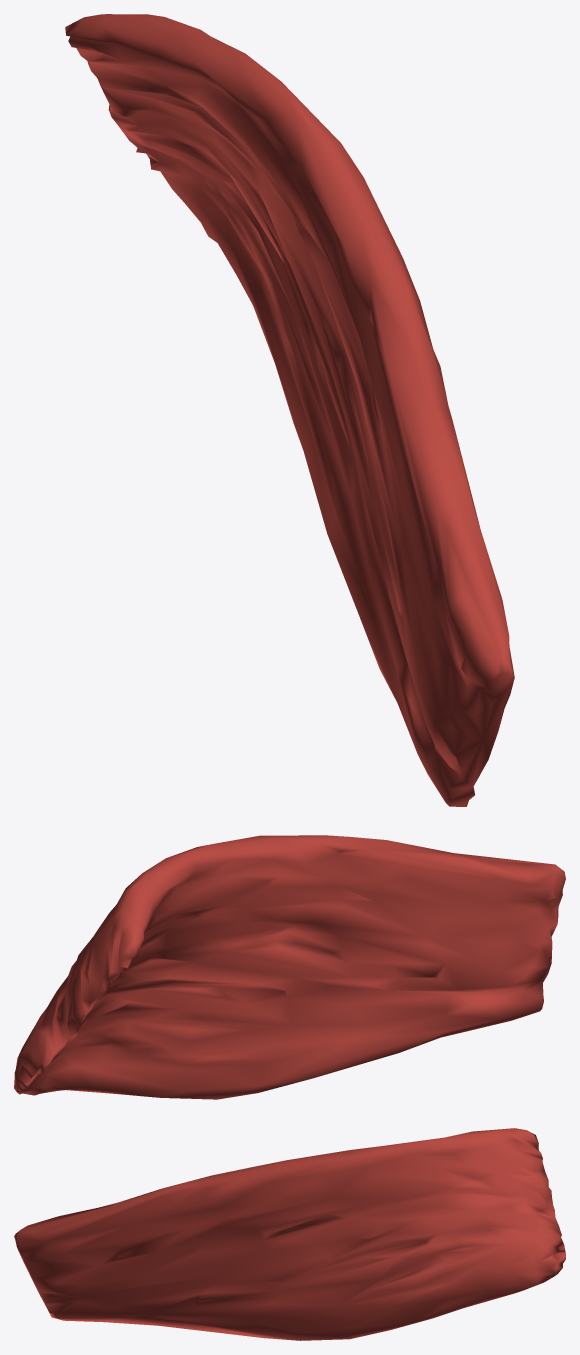
The model's file is musculos-external-part-of-thyro-arytenoid-muscle-l.glb.
The picture shows the model from 3 angles, top to bottom: view 1: azimuth 30°, elevation 25°; view 2: azimuth 150°, elevation 25°; view 3: azimuth 270°, elevation 25°; orthographic projection. The views are drawn at different scales.
Parts seen in each view (by area): view 1: External part of thyro-arytenoid muscle.l; view 2: External part of thyro-arytenoid muscle.l; view 3: External part of thyro-arytenoid muscle.l.
Part boxes in pixels (<box>): External part of thyro-arytenoid muscle.l: <box>65,14,514,806</box>; External part of thyro-arytenoid muscle.l: <box>14,835,565,1099</box>; External part of thyro-arytenoid muscle.l: <box>14,1128,565,1340</box>.
Size of the model in its own units: 0.00597 by 0.00921 by 0.0208.
